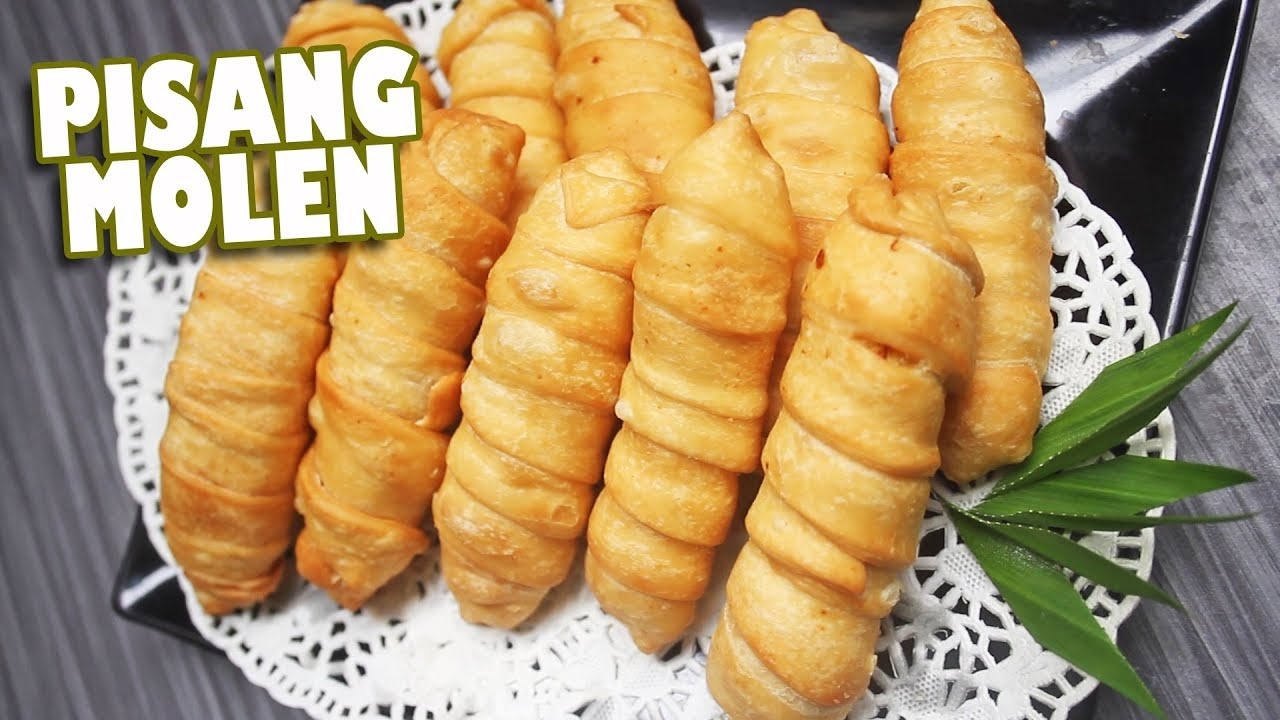pisang_molen: (704, 169, 987, 720), (289, 112, 527, 620), (582, 109, 791, 662), (420, 149, 649, 623)
